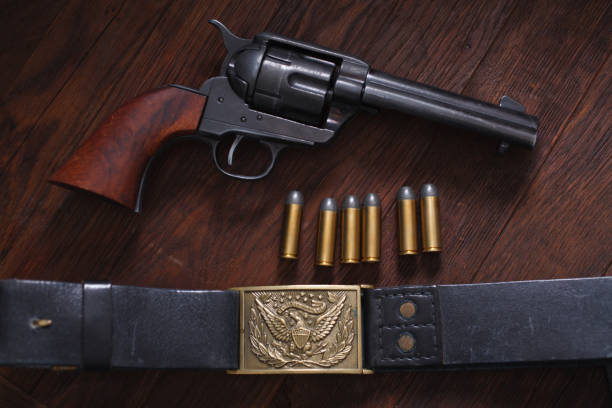gun: (48, 17, 544, 216)
